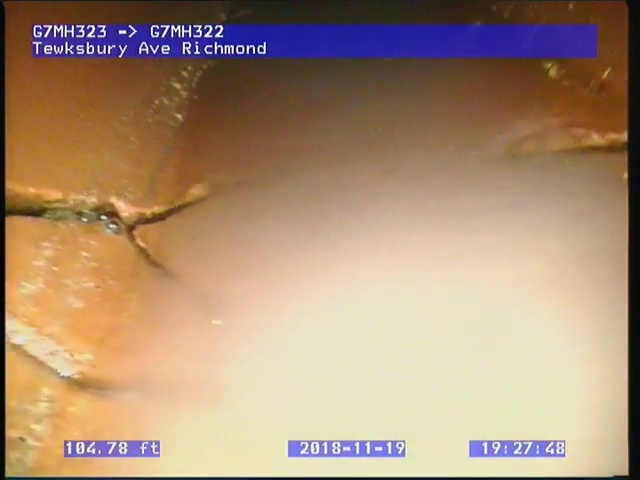crack: (5, 175, 216, 280), (574, 129, 628, 156)
